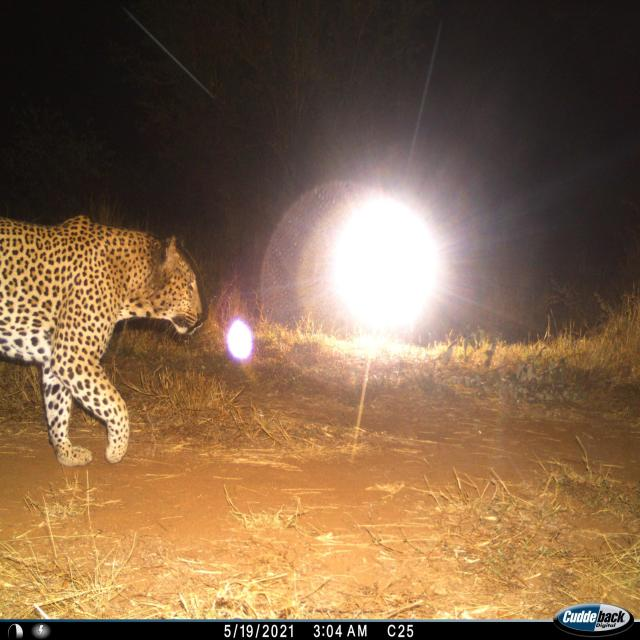Leopard: (0, 193, 213, 476)
